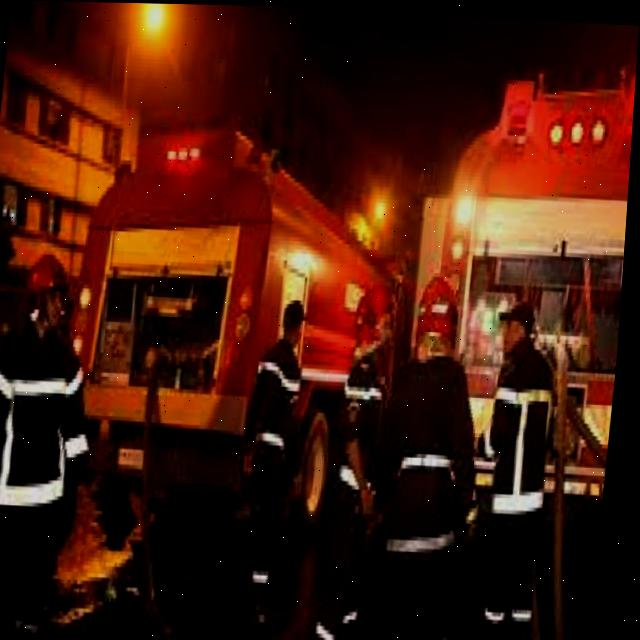emergency: (63, 124, 420, 467), (432, 33, 639, 549)
